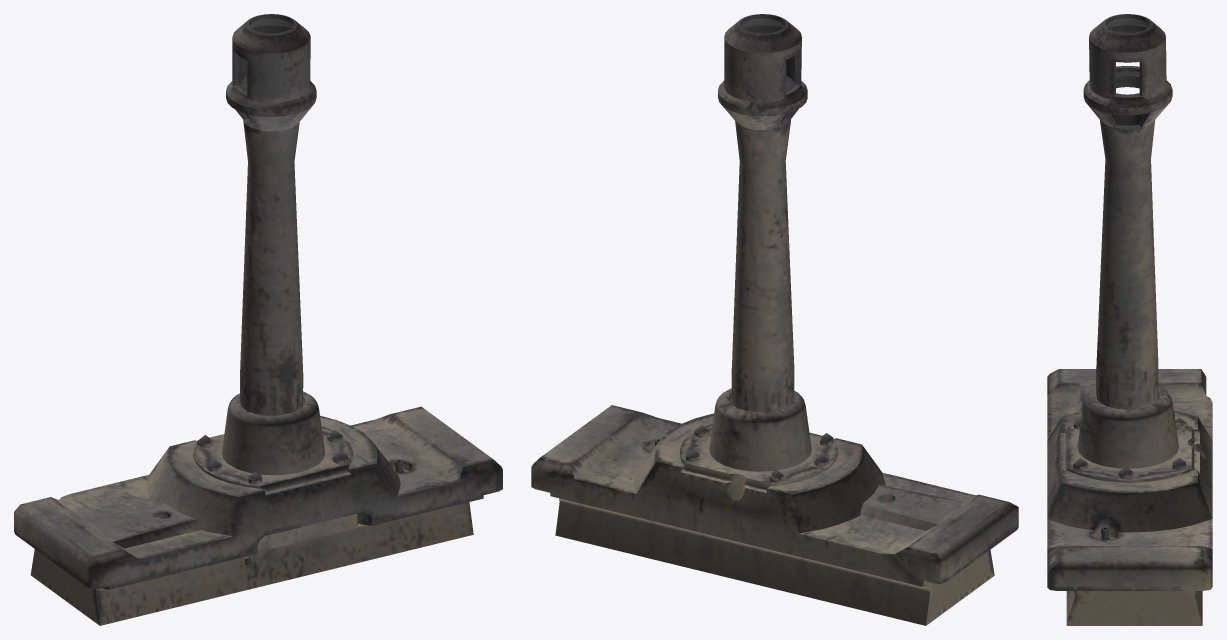
The model's file is Gun_04.glb.
The picture shows the model from 3 angles, left to right: view 1: azimuth 30°, elevation 25°; view 2: azimuth 150°, elevation 25°; view 3: azimuth 270°, elevation 25°; orthographic projection.
Parts seen in each view (by area): view 1: set_0_group_0; view 2: set_0_group_0; view 3: set_0_group_0.
Boxes of the visible parts, left/top/right/bottom form: set_0_group_0: left=14, top=14, right=502, bottom=625; set_0_group_0: left=531, top=14, right=1018, bottom=625; set_0_group_0: left=1047, top=14, right=1212, bottom=625.
Bounding box in the file's own units: 1.59 × 1.95 × 0.5607.
Materials: 1 (1 with a texture image).
